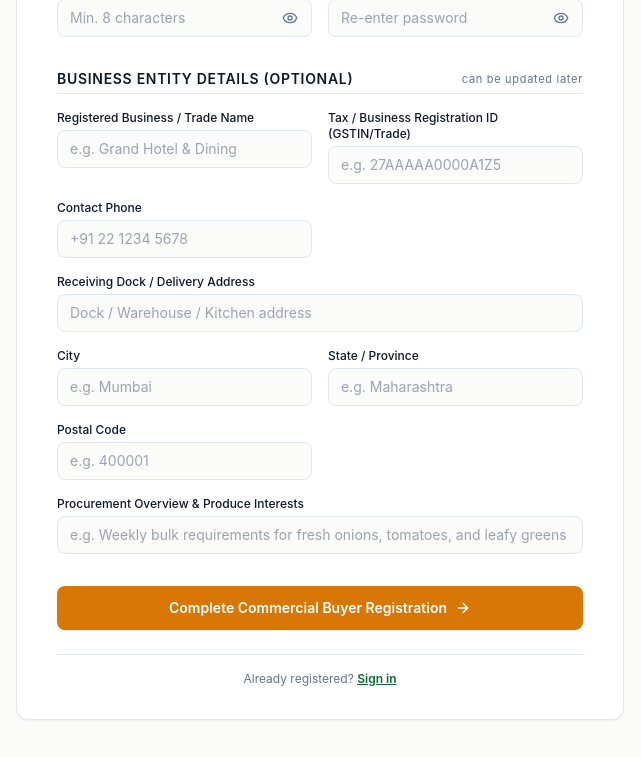
BuyerRegisterPage › validates client-side required fields on empty submission
(page scrolled)
Click the button "Complete Commercial Buyer Registration". click: (320, 608)
box: [57,586,583,630]
(page scrolled)
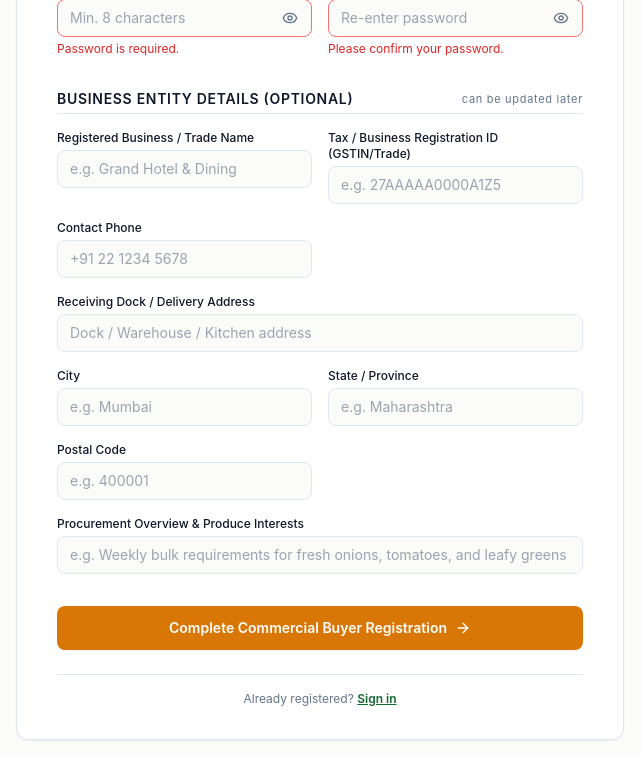
Result: the text "Password is required." is shown at [57,41,179,56]
Result: the text "Please confirm your password." is shown at [328,41,504,56]
